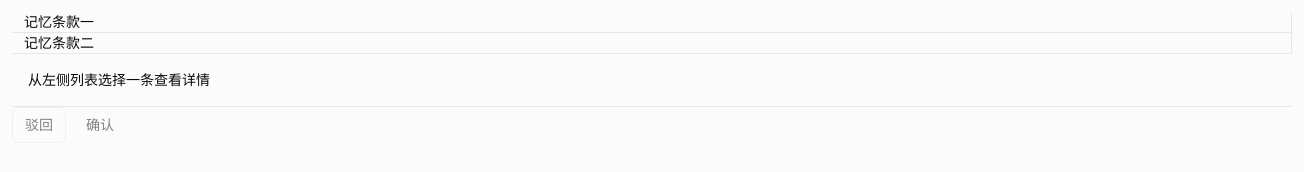
Test case: PageShellC：左列表 + 右详情 + 确认/驳回 › 未选择时确认/驳回禁用；选中后启用并展示详情
The image size is (1304, 172).
Expected: the button with test id "page-shell-confirm" is disabled, x1=74 y1=107 x2=126 y2=143
Expected: the button with test id "page-shell-reject" is disabled, x1=12 y1=107 x2=66 y2=143
Click the button "记忆条款一" at (59, 22), box x1=12 y1=12 x2=1291 y2=33
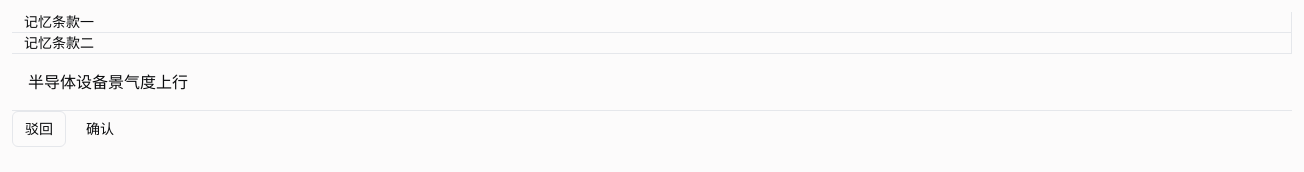
Result: the button with test id "page-shell-confirm" is enabled at x1=74 y1=111 x2=126 y2=147
Result: the button with test id "page-shell-reject" is enabled at x1=12 y1=111 x2=66 y2=147
Result: the element with test id "page-shell-detail" reads "半导体设备景气度上行" at x1=28 y1=72 x2=188 y2=92
